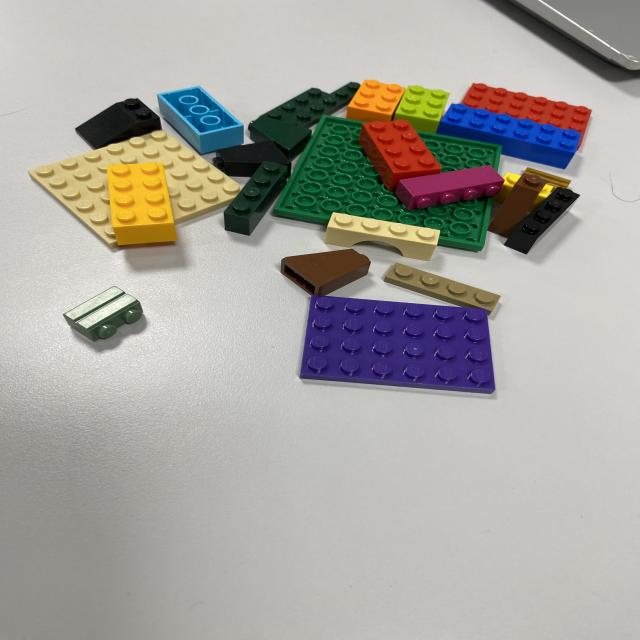C4x2x1: (358, 119, 434, 190), (108, 160, 174, 227), (113, 222, 176, 244)
